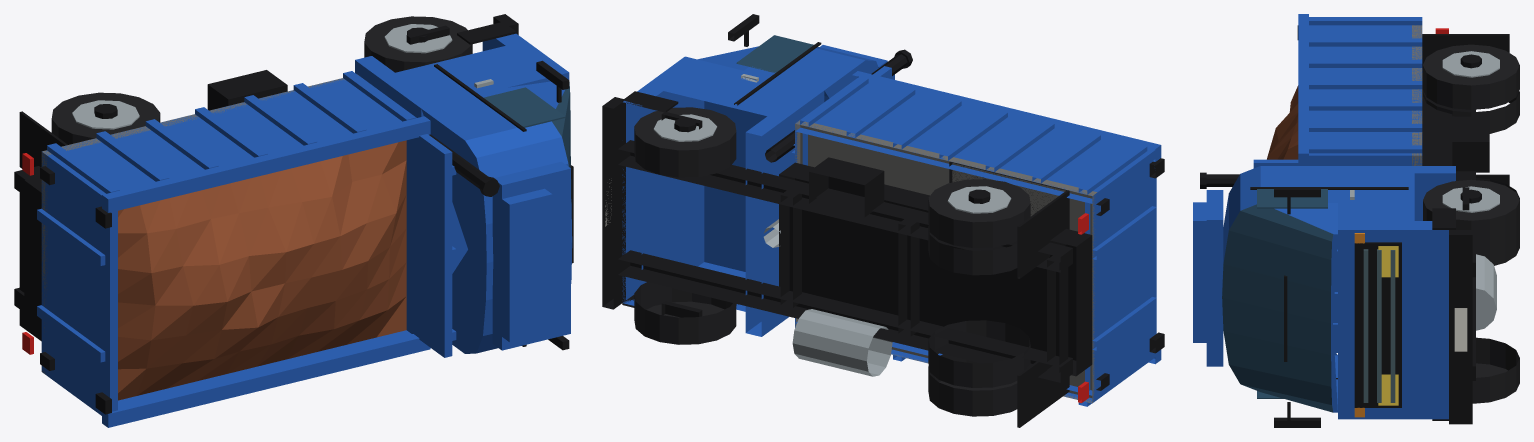
File: loaded.glb
3 views of the same model, side by side, from view 1: azimuth 30°, elevation 25°; view 2: azimuth 150°, elevation 25°; view 3: azimuth 270°, elevation 25° (orthographic). The views are drawn at different scales.
Parts seen in each view (by area): view 1: loaded_load, loaded_bed, loaded_cab_upper, loaded_air_dam_top, loaded_headboard, loaded_air_dam, loaded_cab_arch, loaded_front1, loaded_rear_out1, loaded_subframe, loaded_cab_back, loaded_battery_box (+6 smaller); view 2: loaded_bed, loaded_subframe, loaded_cab_arch, loaded_chassis-1, loaded_chassis1, loaded_cab_back, loaded_front1, loaded_cab_front, loaded_rear_out1, loaded_fuel_tank, loaded_bumper, loaded_front-1 (+13 smaller); view 3: loaded_cab_upper, loaded_bed, loaded_cab_front, loaded_rear_out1, loaded_grille, loaded_front1, loaded_bumper, loaded_cab_arch, loaded_air_dam, loaded_front-1, loaded_battery_box, loaded_air_dam_top (+22 smaller).
Boxes of the visible parts, left/top/right/bottom form: loaded_load: left=118, top=140, right=406, bottom=400; loaded_bed: left=37, top=71, right=430, bottom=427; loaded_cab_upper: left=421, top=81, right=572, bottom=353; loaded_air_dam_top: left=502, top=188, right=552, bottom=342; loaded_headboard: left=418, top=134, right=452, bottom=357; loaded_air_dam: left=492, top=161, right=570, bottom=350; loaded_cab_arch: left=395, top=46, right=548, bottom=273; loaded_front1: left=364, top=16, right=472, bottom=72; loaded_rear_out1: left=51, top=92, right=160, bottom=144; loaded_subframe: left=24, top=176, right=41, bottom=330; loaded_cab_back: left=355, top=56, right=437, bottom=117; loaded_battery_box: left=207, top=70, right=287, bottom=110; loaded_bed: left=795, top=71, right=1161, bottom=406; loaded_subframe: left=779, top=162, right=1092, bottom=376; loaded_cab_arch: left=663, top=61, right=807, bottom=311; loaded_chassis-1: left=618, top=250, right=1072, bottom=382; loaded_chassis1: left=618, top=140, right=1072, bottom=272; loaded_cab_back: left=745, top=86, right=824, bottom=336; loaded_front1: left=634, top=107, right=736, bottom=177; loaded_cab_front: left=622, top=56, right=704, bottom=305; loaded_rear_out1: left=928, top=179, right=1030, bottom=247; loaded_fuel_tank: left=792, top=309, right=892, bottom=376; loaded_bumper: left=602, top=97, right=625, bottom=309; loaded_front-1: left=634, top=282, right=736, bottom=344; loaded_cab_upper: left=1222, top=166, right=1337, bottom=412; loaded_bed: left=1298, top=14, right=1422, bottom=352; loaded_cab_front: left=1338, top=221, right=1448, bottom=419; loaded_rear_out1: left=1423, top=44, right=1519, bottom=109; loaded_grille: left=1354, top=242, right=1401, bottom=407; loaded_front1: left=1423, top=179, right=1519, bottom=246; loaded_bumper: left=1449, top=230, right=1472, bottom=424; loaded_cab_arch: left=1338, top=173, right=1414, bottom=220; loaded_air_dam: left=1206, top=190, right=1223, bottom=366; loaded_front-1: left=1472, top=337, right=1519, bottom=403; loaded_battery_box: left=1452, top=116, right=1489, bottom=172; loaded_air_dam_top: left=1193, top=202, right=1206, bottom=342.
Size of the model in its own units: 7.6 by 3.9 by 4.85.
